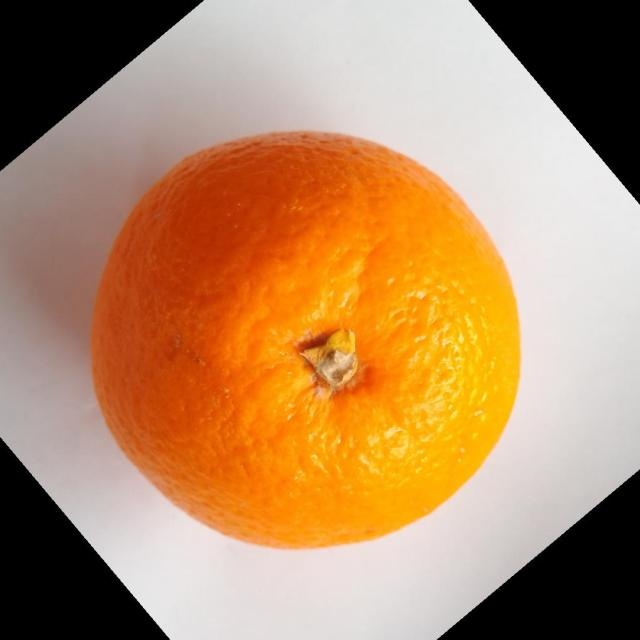agrume: (89, 128, 522, 550)
